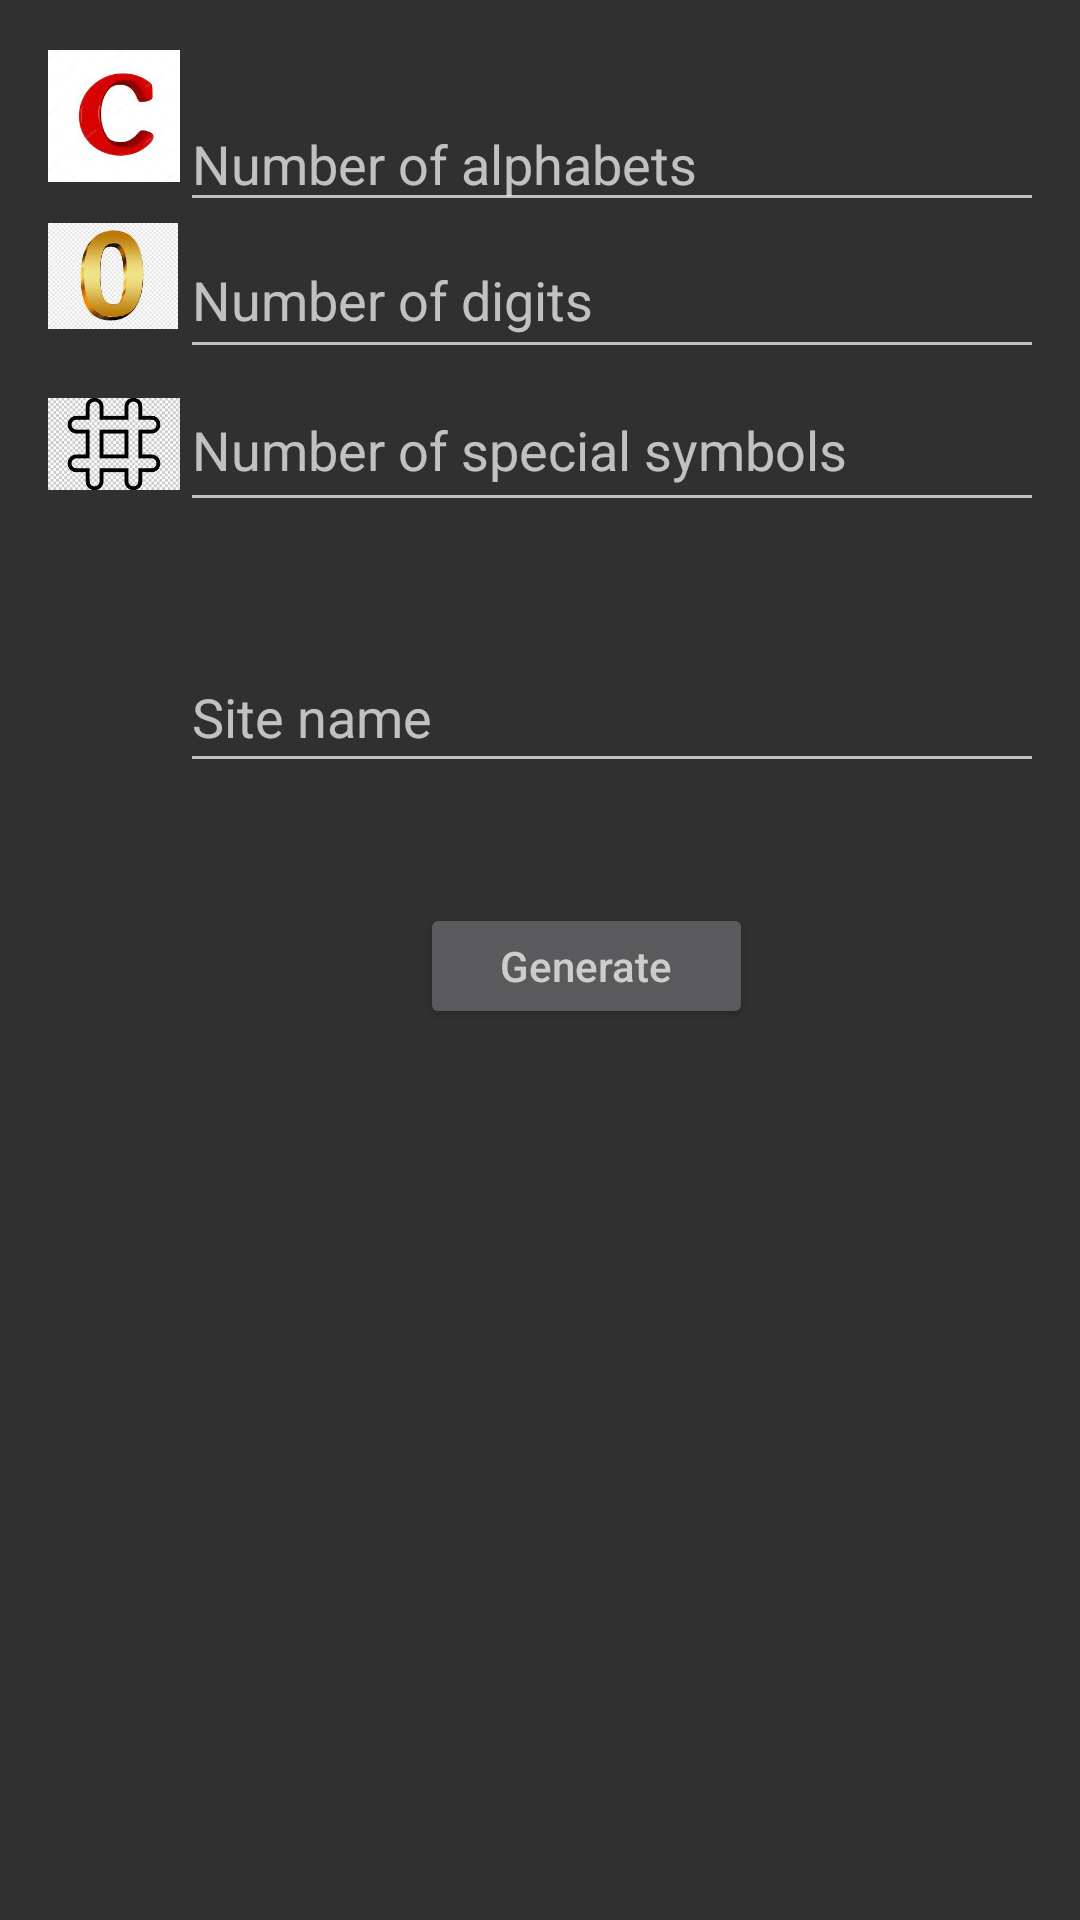

Icon bounding boxes for this 1080px×1920px phone screenshot, format (x1, y1, x2, y2):
aplhabet: (48, 50, 180, 182)
